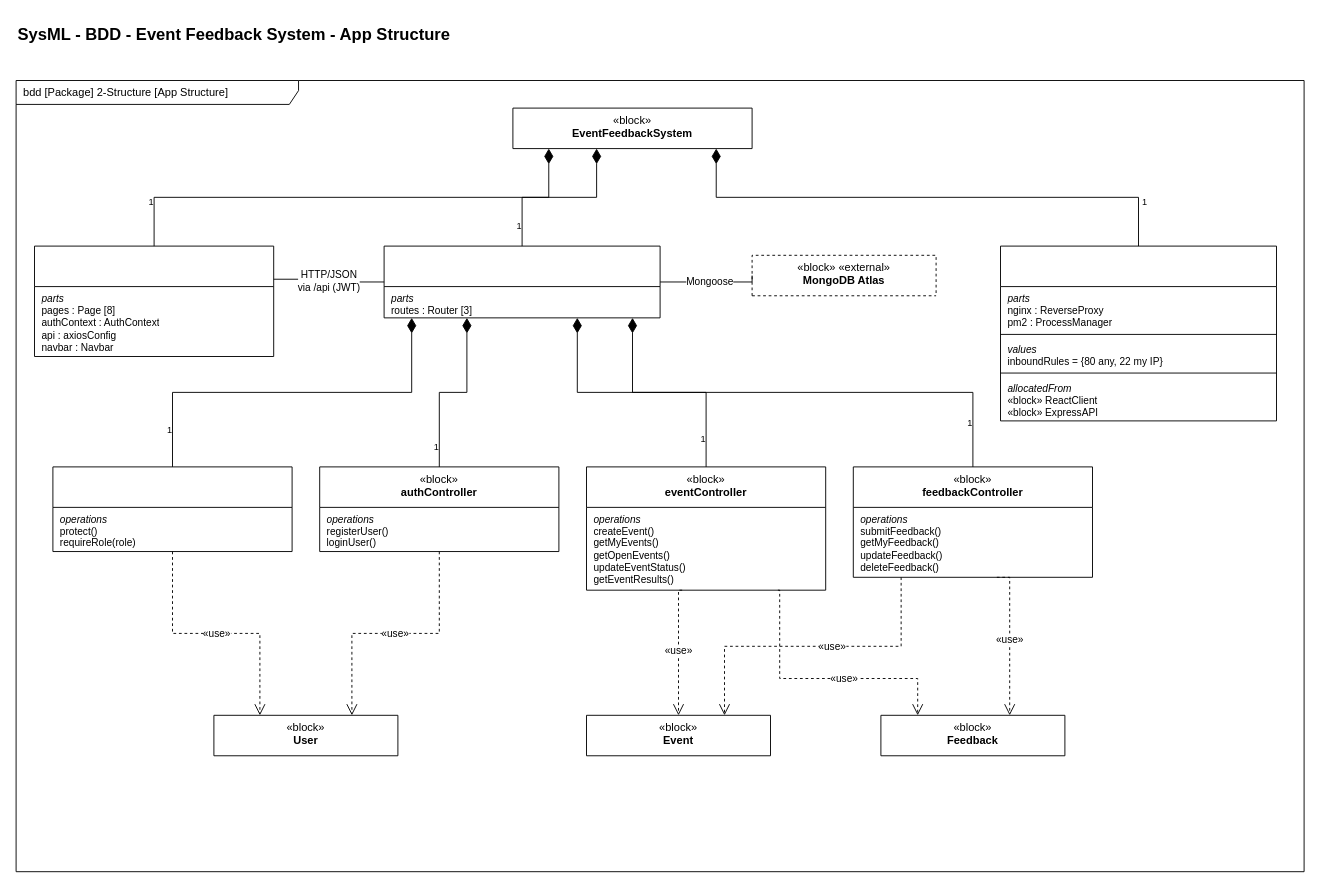
The diagram is 1320 pixels wide and 888 high, and some of its shapes have lost their labels. Here are the shapes that lost their labels. From the top down, the box of each, then its label:
(34, 245, 274, 356): «block» ReactClient
(383, 245, 660, 318): «block» ExpressAPI
(1000, 245, 1276, 421): «block» EC2Instance
(52, 466, 292, 552): «block» authMiddleware
